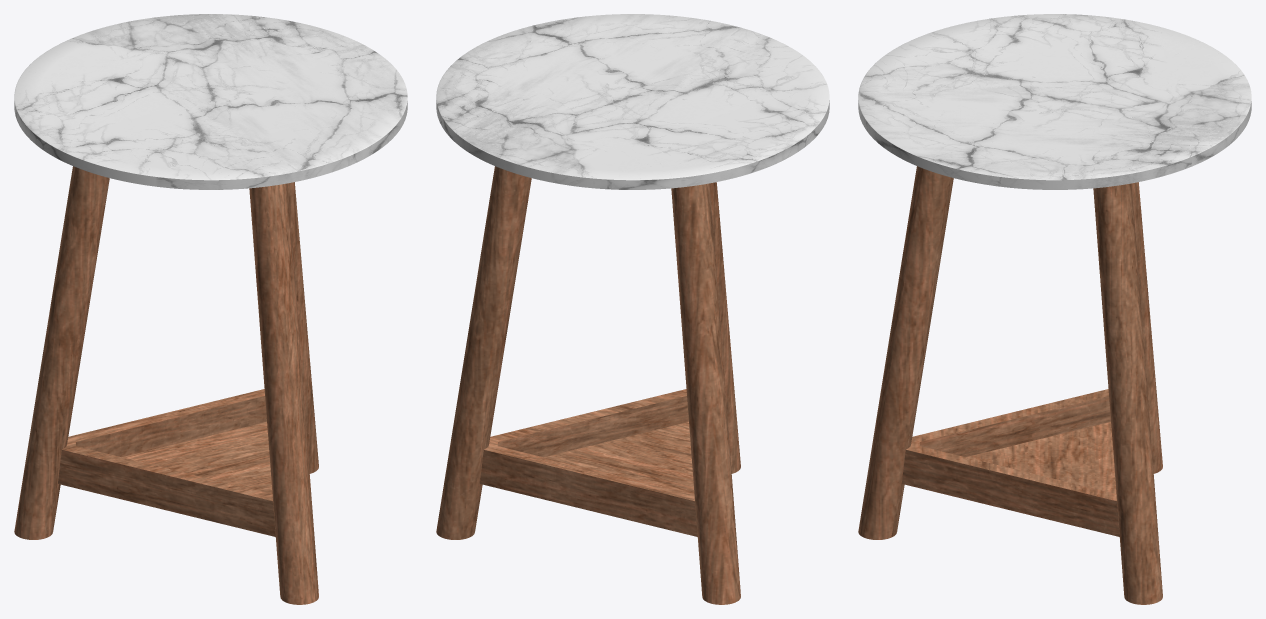
The model's file is marble_sidetable.gltf.
The picture shows the model from 3 angles, left to right: view 1: azimuth 30°, elevation 25°; view 2: azimuth 150°, elevation 25°; view 3: azimuth 270°, elevation 25°; orthographic projection.
Parts seen in each view (by area): view 1: Mesh; view 2: Mesh; view 3: Mesh.
Boxes of the visible parts, x1,y1,x2,y2 form: Mesh: (14, 14, 407, 604); Mesh: (436, 14, 829, 604); Mesh: (858, 14, 1251, 604).
Size of the model in its own units: 0.406 by 0.4955 by 0.406.
1 material, 1 textured.
